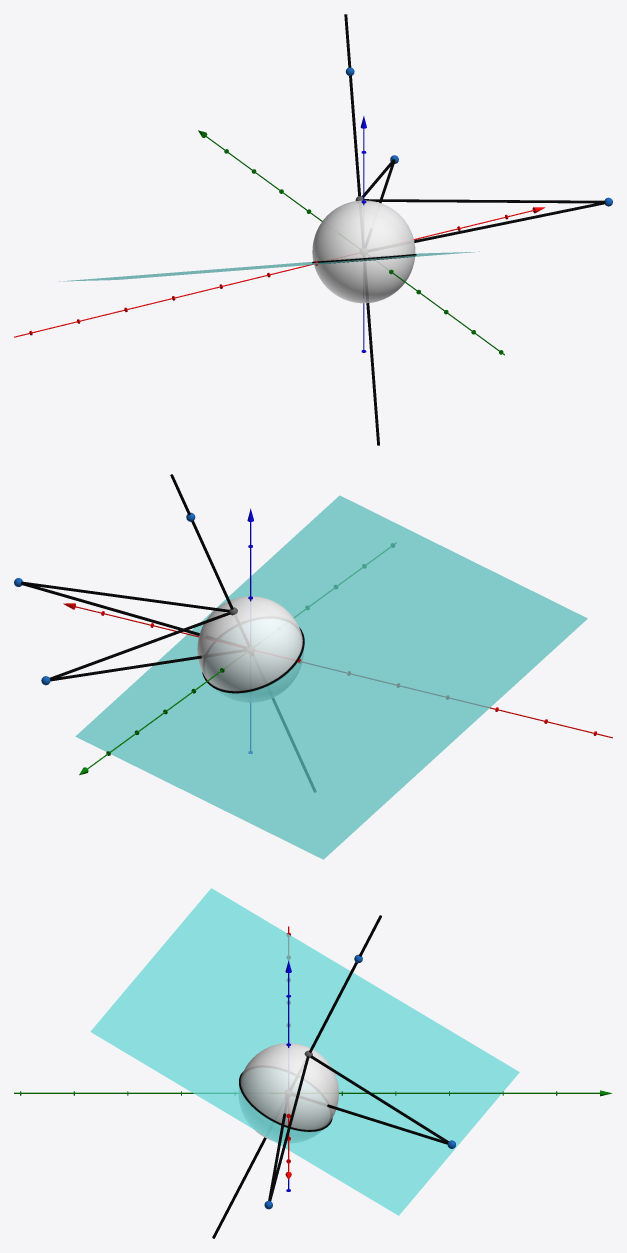
File: Diurnal parallax.dae
The picture shows the model from 3 angles, top to bottom: view 1: azimuth 30°, elevation 25°; view 2: azimuth 150°, elevation 25°; view 3: azimuth 270°, elevation 25°; orthographic projection. The views are drawn at different scales.
Parts seen in each view (by area): view 1: a, a_2, h, p, p_2, xAxis, k, j, yAxis; view 2: p, p_2, a, a_2, xAxis, h, k, m, j, yAxis, n; view 3: p, p_2, a, a_2, yAxis, h, m, k.
Boxes of the visible parts, left/top/right/bottom form: a: left=312, top=200, right=415, bottom=303; a_2: left=312, top=200, right=414, bottom=302; h: left=344, top=14, right=379, bottom=445; p: left=59, top=251, right=478, bottom=281; p_2: left=72, top=252, right=470, bottom=280; xAxis: left=14, top=207, right=545, bottom=337; k: left=364, top=199, right=605, bottom=203; j: left=414, top=202, right=605, bottom=242; yAxis: left=198, top=130, right=504, bottom=355; p: left=75, top=495, right=587, bottom=859; p_2: left=76, top=496, right=587, bottom=859; a: left=197, top=596, right=302, bottom=701; a_2: left=197, top=596, right=302, bottom=691; xAxis: left=63, top=603, right=612, bottom=738; h: left=170, top=474, right=315, bottom=792; k: left=21, top=581, right=229, bottom=611; m: left=49, top=612, right=230, bottom=680; j: left=21, top=584, right=199, bottom=635; yAxis: left=79, top=543, right=396, bottom=775; n: left=50, top=655, right=201, bottom=681; p: left=91, top=888, right=519, bottom=1215; p_2: left=90, top=888, right=519, bottom=1215; a: left=239, top=1043, right=338, bottom=1142; a_2: left=241, top=1043, right=338, bottom=1140; yAxis: left=14, top=1090, right=611, bottom=1096; h: left=212, top=915, right=381, bottom=1238; m: left=310, top=1055, right=448, bottom=1143; k: left=268, top=1056, right=309, bottom=1201.
Size of the model in its own units: 61.81 by 55.88 by 35.84.
